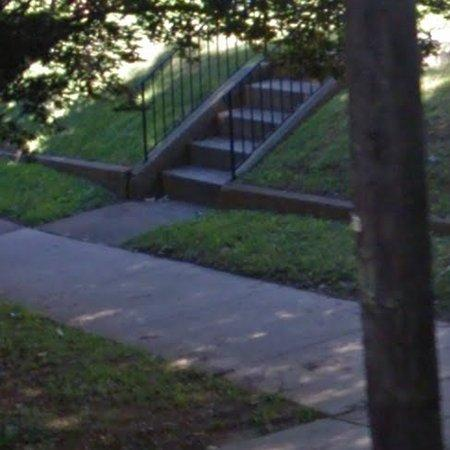stairs: (162, 77, 320, 202)
